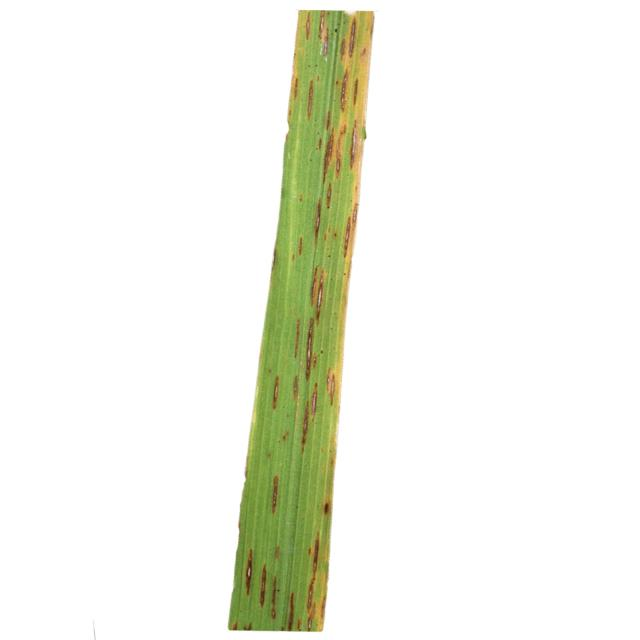Narrow brown: (208, 1, 546, 640)
